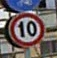limite 10: (9, 13, 44, 46)
